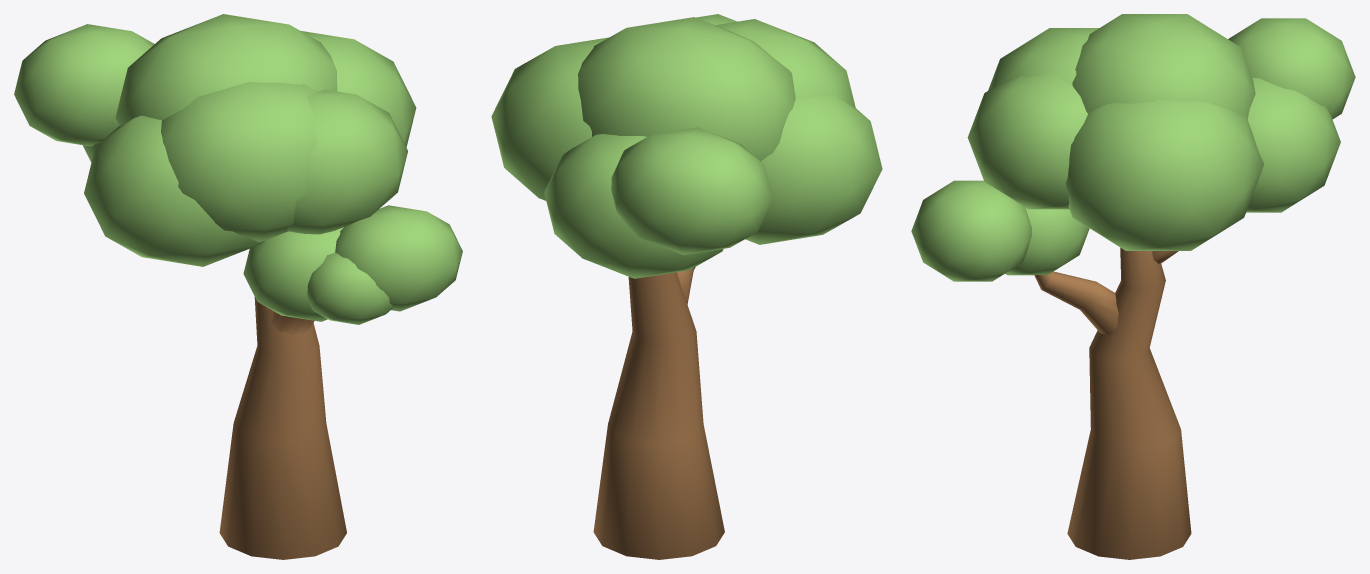
The model's file is tree_tree.fbx.
The picture shows the model from 3 angles, left to right: view 1: azimuth 30°, elevation 25°; view 2: azimuth 150°, elevation 25°; view 3: azimuth 270°, elevation 25°; orthographic projection. The views are drawn at different scales.
Parts seen in each view (by area): view 1: Tree_stump; view 2: Tree_stump; view 3: Tree_stump.
Part boxes in pixels (x1,y1,x2,y2): Tree_stump: (14, 14, 462, 559); Tree_stump: (491, 14, 882, 559); Tree_stump: (911, 14, 1355, 559).
Bounding box in the file's own units: 410 × 613 × 501.
